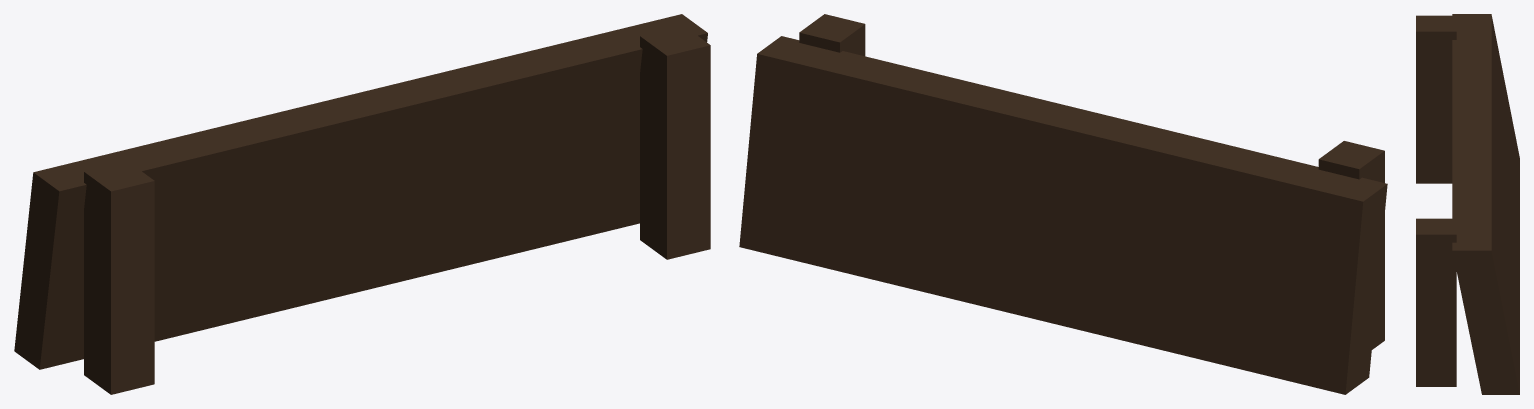
File: rail_stopper_mat.fbx
3 renders of one model, left to right at view 1: azimuth 30°, elevation 25°; view 2: azimuth 150°, elevation 25°; view 3: azimuth 270°, elevation 25°, orthographic. The views are drawn at different scales.
Parts seen in each view (by area): view 1: rail_stopper_mat; view 2: rail_stopper_mat; view 3: rail_stopper_mat.
Boxes of the visible parts, x1,y1,x2,y2 form: rail_stopper_mat: [14, 14, 710, 394]; rail_stopper_mat: [739, 14, 1387, 394]; rail_stopper_mat: [1416, 14, 1519, 394].
Bounding box in the file's own units: 107 × 32.19 × 19.87.
